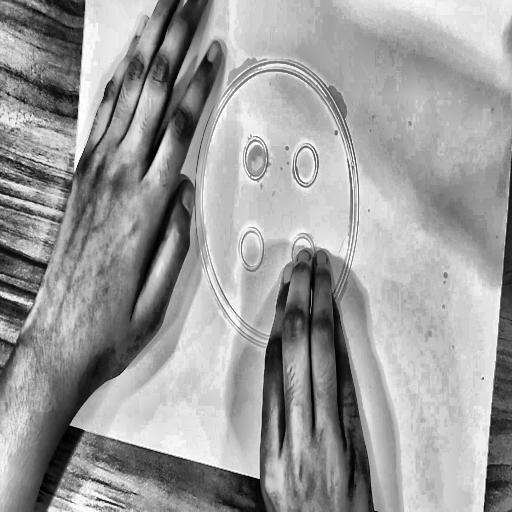bottom_left: (55, 405, 65, 421)
button: (175, 27, 381, 385)
